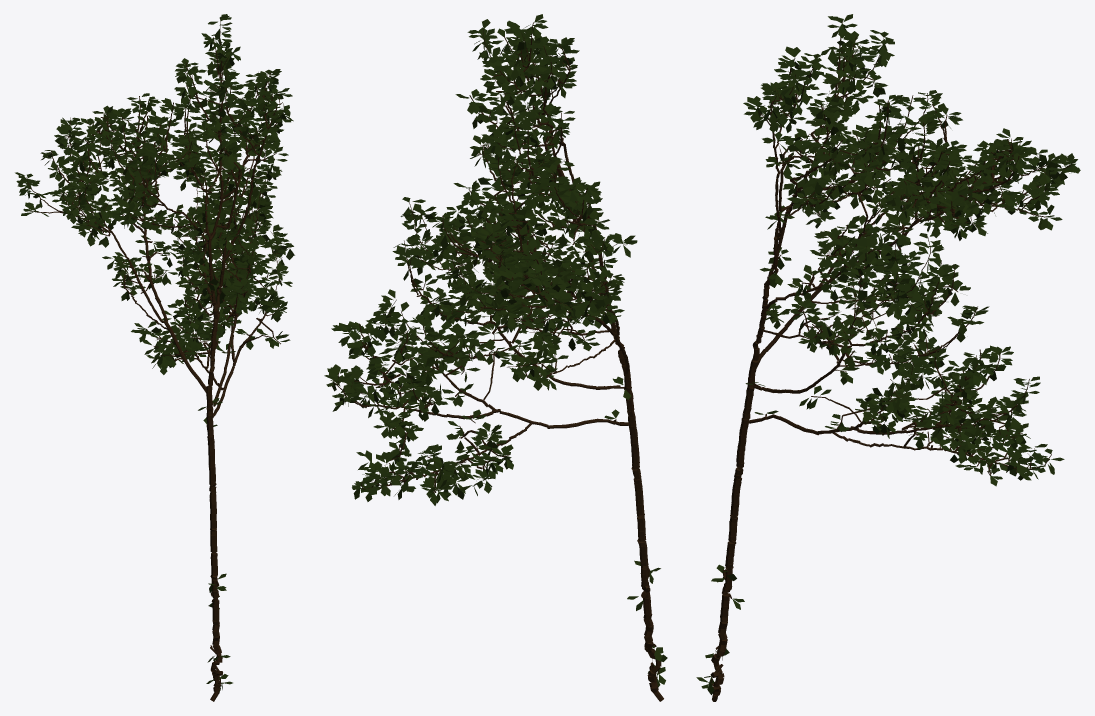
Rendered from tree_261.obj.
The picture shows the model from 3 angles, left to right: view 1: azimuth 30°, elevation 25°; view 2: azimuth 150°, elevation 25°; view 3: azimuth 270°, elevation 25°; orthographic projection. The views are drawn at different scales.
Visible parts, largest first — view 1: Leaves, TrunkAndBranches; view 2: Leaves, TrunkAndBranches; view 3: Leaves, TrunkAndBranches.
Boxes of the visible parts, bbox=[...] form: Leaves: bbox=[15, 14, 294, 692]; TrunkAndBranches: bbox=[26, 17, 290, 701]; Leaves: bbox=[324, 14, 667, 686]; TrunkAndBranches: bbox=[334, 22, 663, 701]; Leaves: bbox=[696, 14, 1080, 694]; TrunkAndBranches: bbox=[710, 21, 1073, 701].
Bounding box in the file's own units: 6.4 × 15.65 × 7.6.
